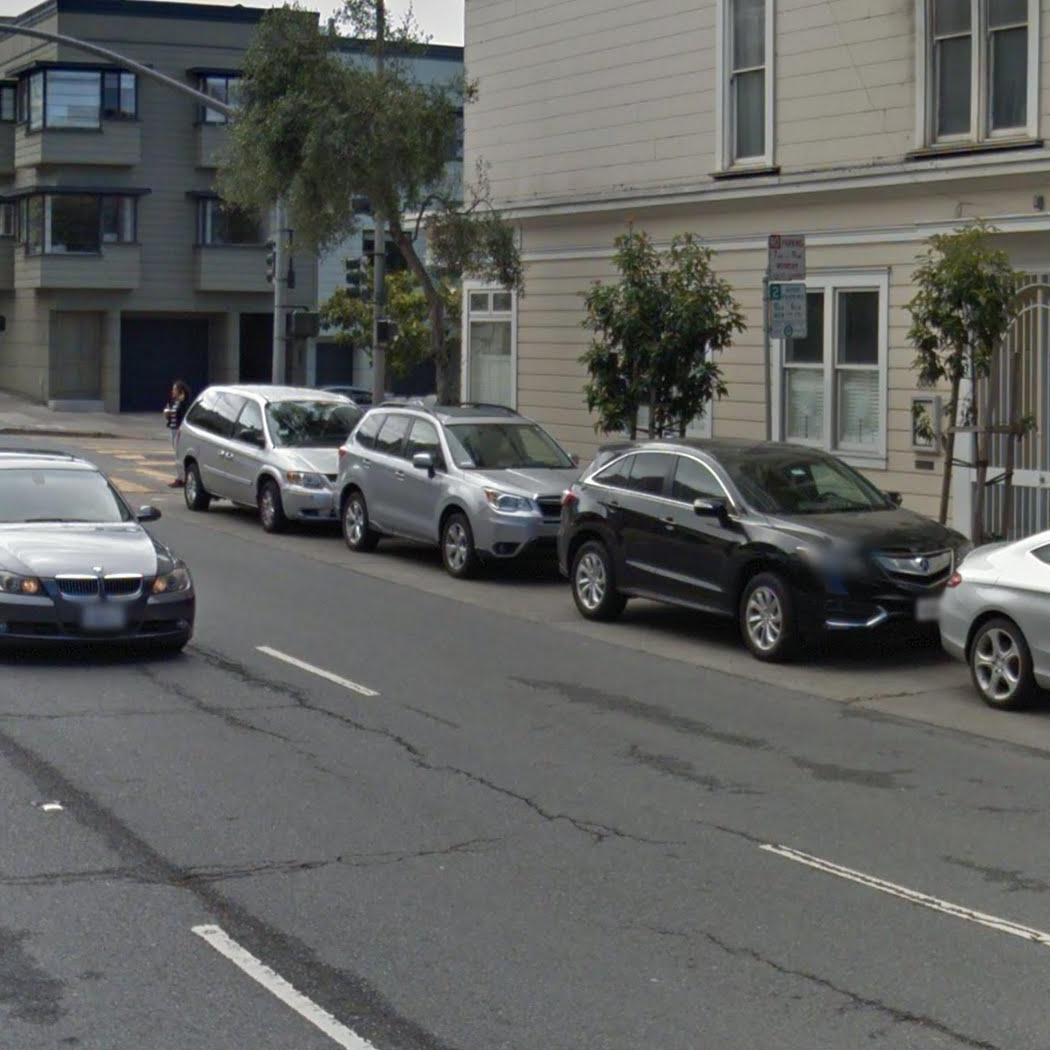2 Hour Parking: (767, 280, 807, 339)
No Parking: (766, 233, 807, 282)
